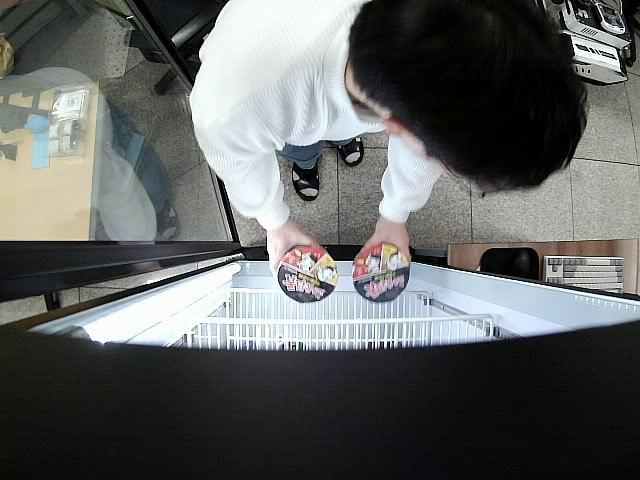07_buldak_L: (276, 248, 338, 302), (353, 245, 410, 303)
